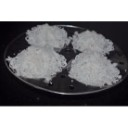idiyappam: (11, 47, 64, 81), (70, 53, 120, 87), (25, 25, 68, 51), (73, 29, 115, 52)
